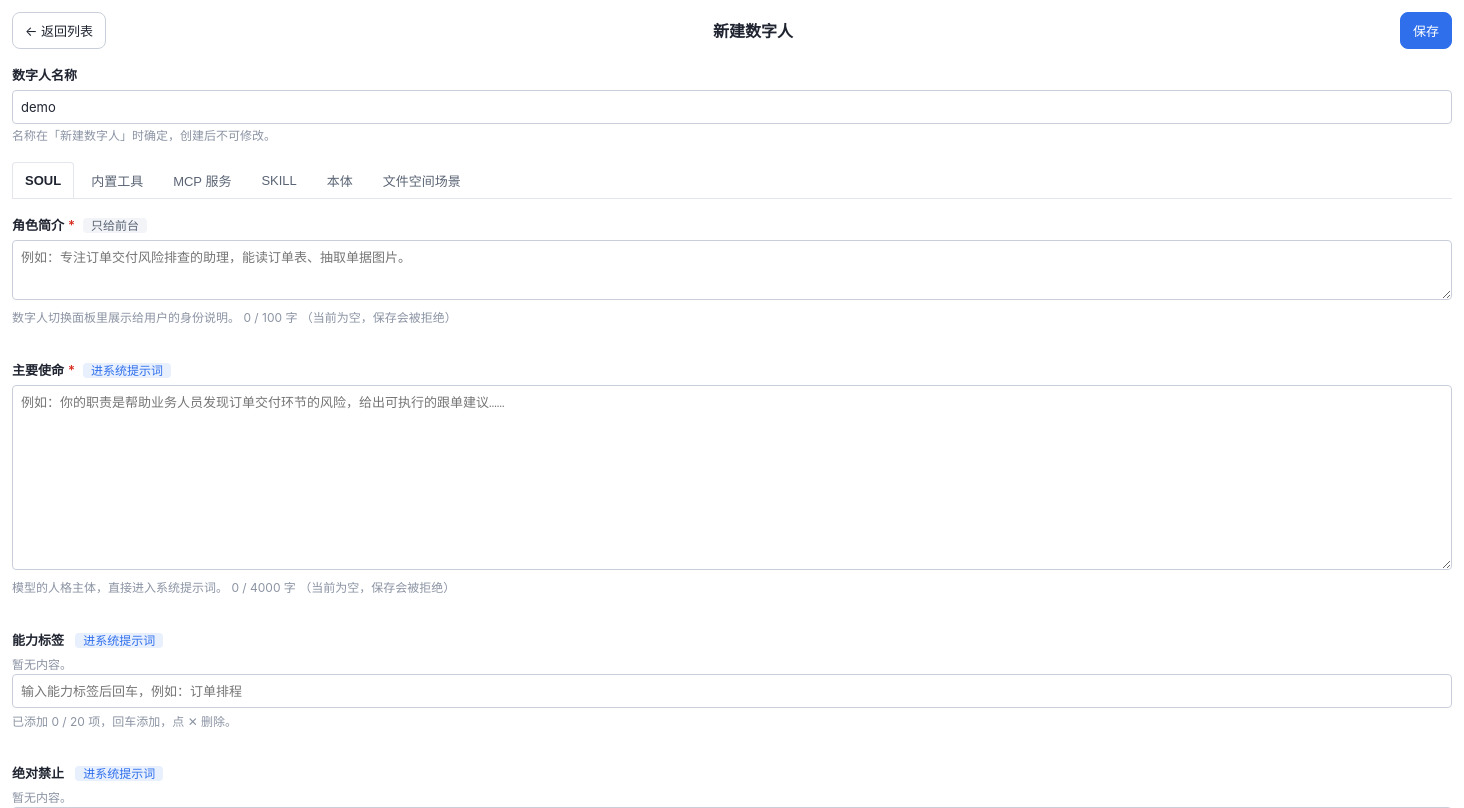
AgentDesigner › 保存失败：发出 error 且错误按码给出可读文案（不展示后端 message）
Click the button "保存". click: click(1426, 30)
box: x1=1400 y1=12 x2=1452 y2=49
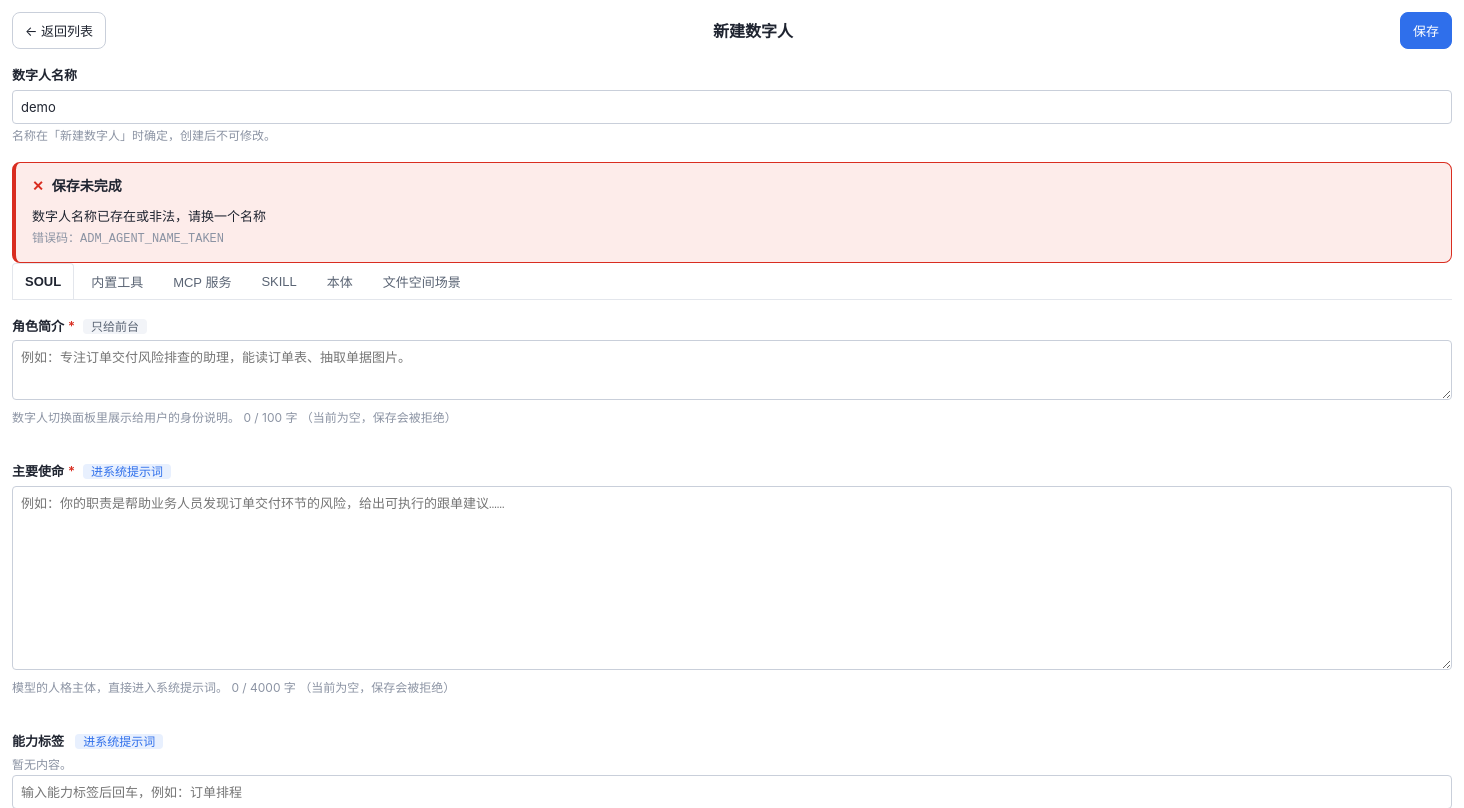
Check: the message "✕ 保存未完成 数字人名称已存在或非法，请换一个名称 错误码：ADM_AGENT_NAME_TAKEN" is shown, box x1=12 y1=162 x2=1452 y2=263
